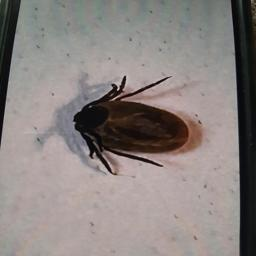Ixodes scapularis: (73, 74, 190, 176)
